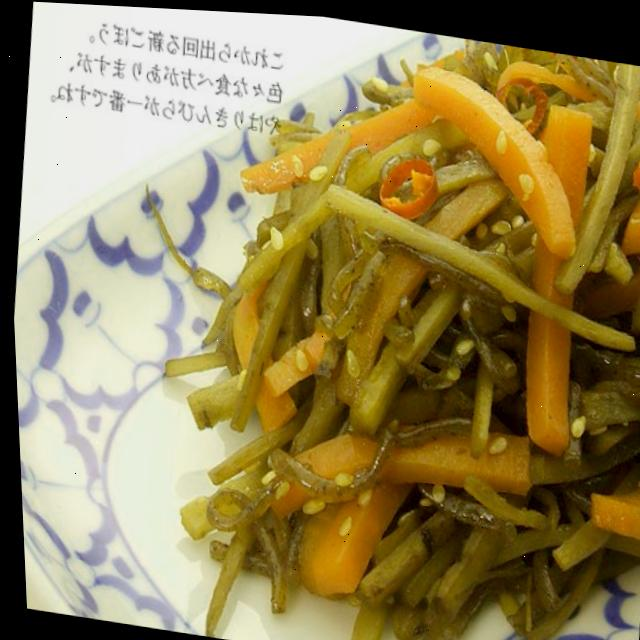蔬菜料理: (209, 9, 640, 640)
